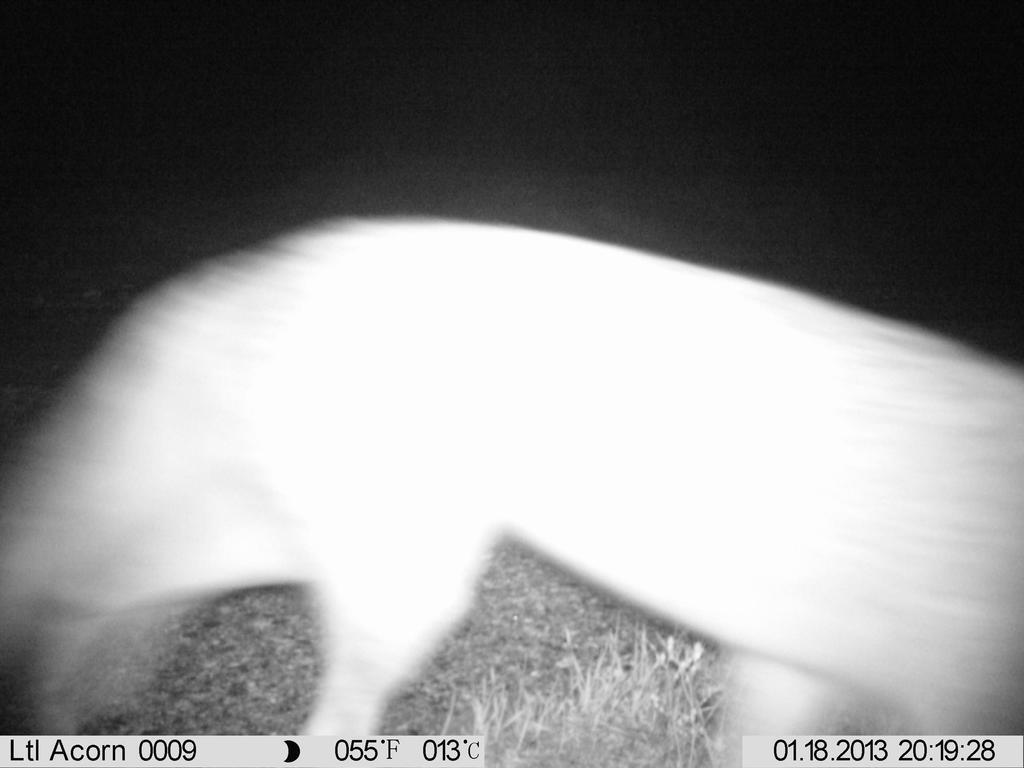coyote: (7, 195, 1022, 739)
